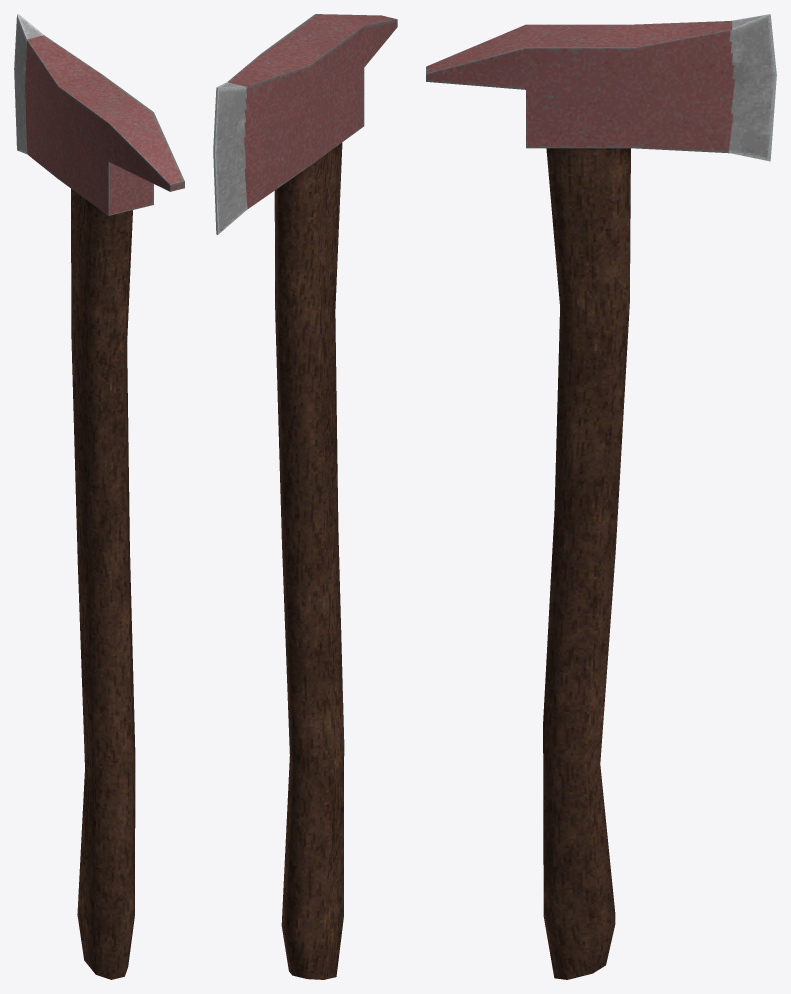
The model's file is axe.glb.
3 views of the same model, side by side, from view 1: azimuth 30°, elevation 25°; view 2: azimuth 150°, elevation 25°; view 3: azimuth 270°, elevation 25° (orthographic). The views are drawn at different scales.
Visible parts, largest first — view 1: Axe; view 2: Axe; view 3: Axe.
Part boxes in pixels (x1=…): Axe: x1=14, y1=14, x2=184, y2=979; Axe: x1=213, y1=14, x2=397, y2=979; Axe: x1=426, y1=14, x2=776, y2=979.
Size of the model in its own units: 0.0971 by 1.82 by 0.604.
Materials: 1 (1 with a texture image).
